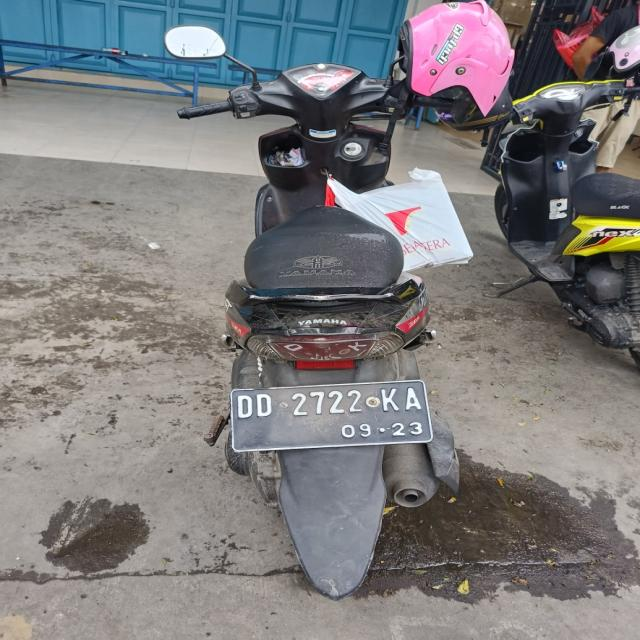plates: (222, 381, 438, 445)
